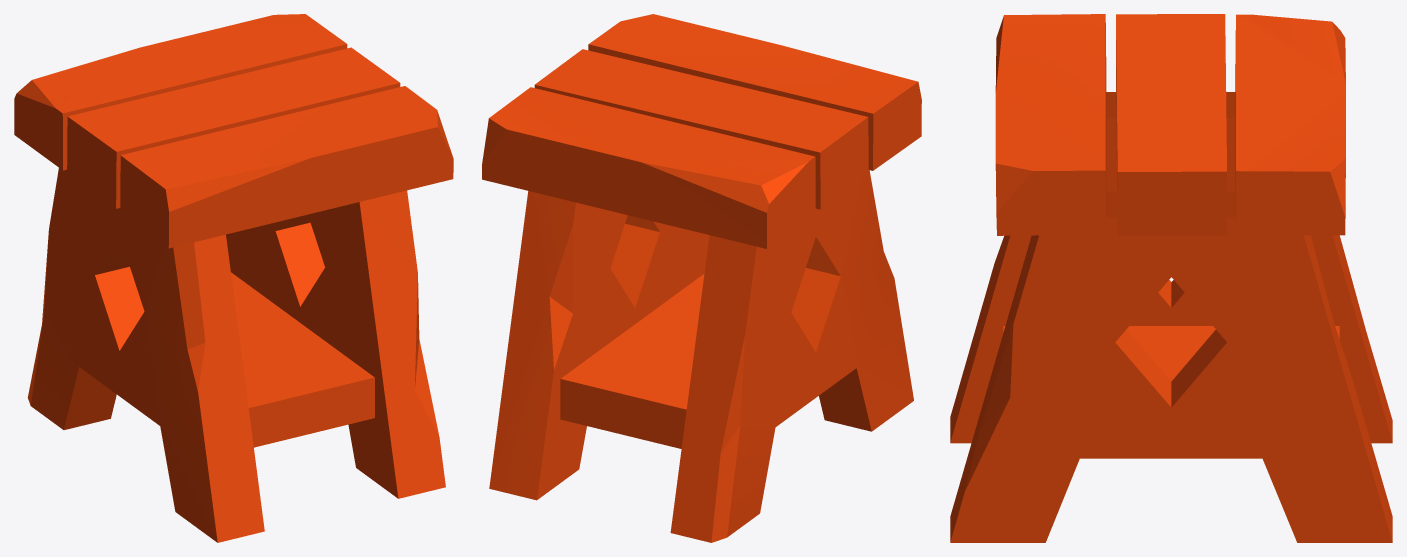
The model's file is Stool_3.fbx.
3 views of the same model, side by side, from view 1: azimuth 30°, elevation 25°; view 2: azimuth 150°, elevation 25°; view 3: azimuth 270°, elevation 25° (orthographic). The views are drawn at different scales.
Visible parts, largest first — view 1: Stool_3; view 2: Stool_3; view 3: Stool_3.
Boxes of the visible parts, x1=… form: Stool_3: x1=14, y1=14, x2=453, y2=542; Stool_3: x1=482, y1=14, x2=921, y2=542; Stool_3: x1=950, y1=14, x2=1392, y2=542.
Size of the model in its own units: 14.68 by 16.9 by 17.48.
